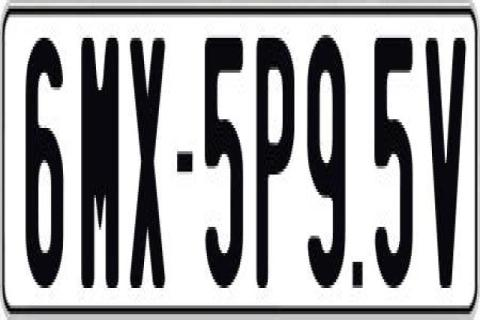0: (205, 29, 247, 297), (374, 29, 416, 285), (304, 26, 344, 291), (22, 35, 60, 297)
M: (78, 38, 121, 294)
P: (257, 29, 297, 285)
V: (424, 38, 461, 302)
X: (127, 38, 169, 288)
